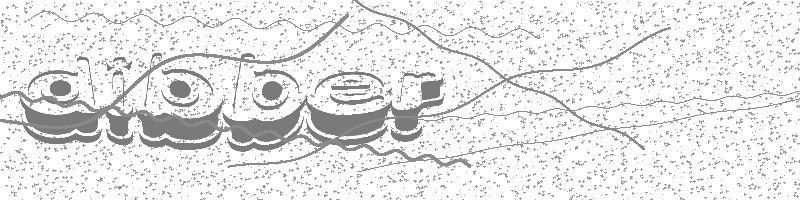b: (138, 50, 224, 150), (227, 49, 307, 155)
d: (13, 51, 102, 144)
e: (307, 66, 390, 146)
i: (106, 54, 137, 144)
r: (387, 66, 446, 146)
